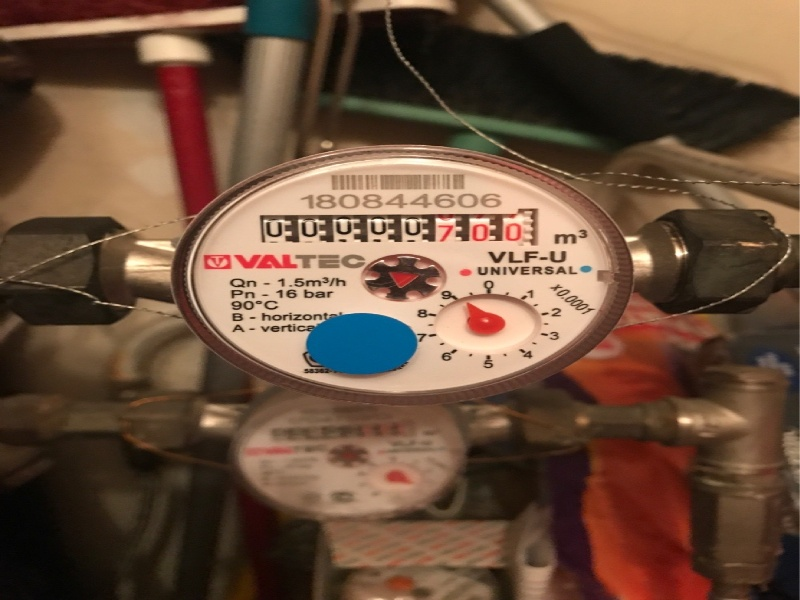meter: (252, 214, 539, 246)
